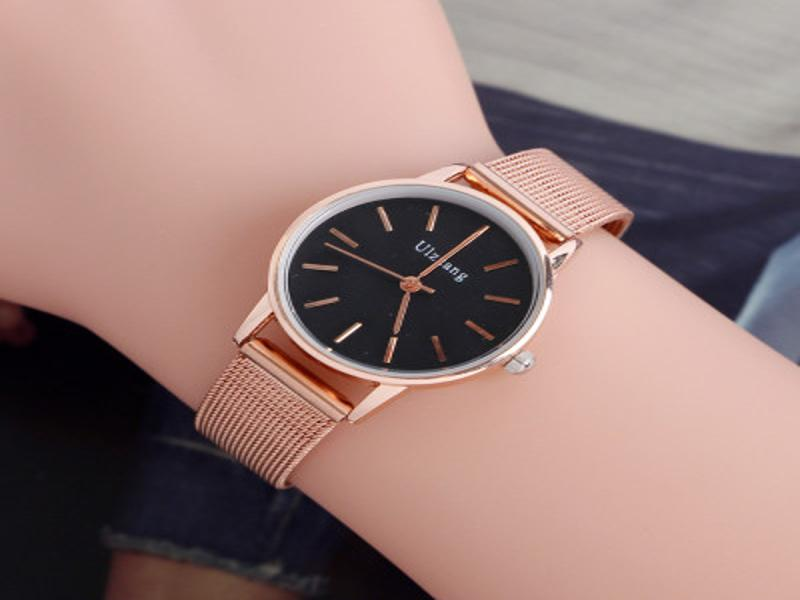watch: (189, 139, 640, 491)
